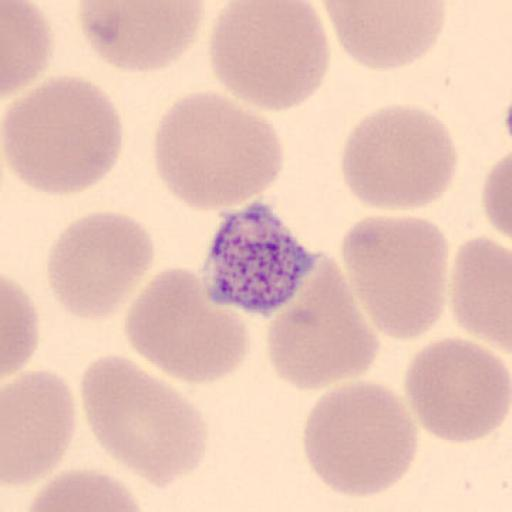Platelet: (199, 199, 320, 319)
RBC: (80, 353, 210, 490), (152, 89, 285, 213), (267, 252, 382, 394), (122, 264, 252, 386), (1, 74, 126, 198), (301, 378, 420, 498), (207, 0, 332, 114), (339, 214, 450, 342), (339, 102, 460, 212), (46, 210, 157, 322), (402, 335, 512, 446), (75, 1, 207, 74), (3, 367, 78, 489), (320, 1, 448, 71), (449, 235, 512, 349), (21, 467, 145, 512), (2, 0, 55, 102), (1, 272, 40, 382), (480, 150, 512, 241), (503, 84, 512, 160)
